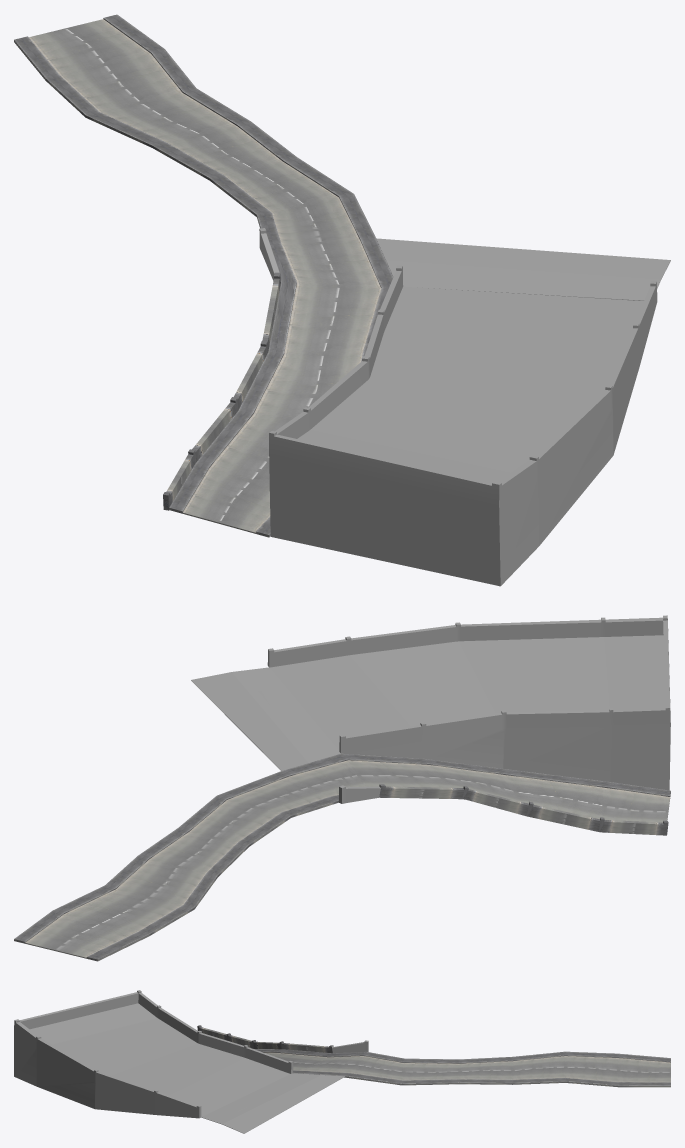
Rendered from curved road with plaza and pieces.fbx.
3 renders of one model, top to bottom at view 1: azimuth 30°, elevation 25°; view 2: azimuth 150°, elevation 25°; view 3: azimuth 270°, elevation 25°, orthographic. The views are drawn at different scales.
Visible parts, largest first — view 1: plaza_platform, curved_road, grass_garden, wall; view 2: plaza_platform, curved_road, grass_garden, wall; view 3: plaza_platform, curved_road, grass_garden, wall.
Part boxes in pixels (box(x1,y1,x2,y2)): plaza_platform: box(269, 265, 657, 586); curved_road: box(14, 14, 393, 537); grass_garden: box(376, 238, 670, 300); wall: box(163, 228, 280, 510); plaza_platform: box(267, 615, 670, 790); curved_road: box(14, 753, 670, 961); grass_garden: box(191, 667, 340, 770); wall: box(338, 784, 668, 835); plaza_platform: box(14, 990, 293, 1118); curved_road: box(254, 1049, 670, 1087); grass_garden: box(201, 1073, 344, 1133); wall: box(197, 1025, 368, 1053).
Size of the model in its own units: 47.24 by 9.02 by 88.64.
